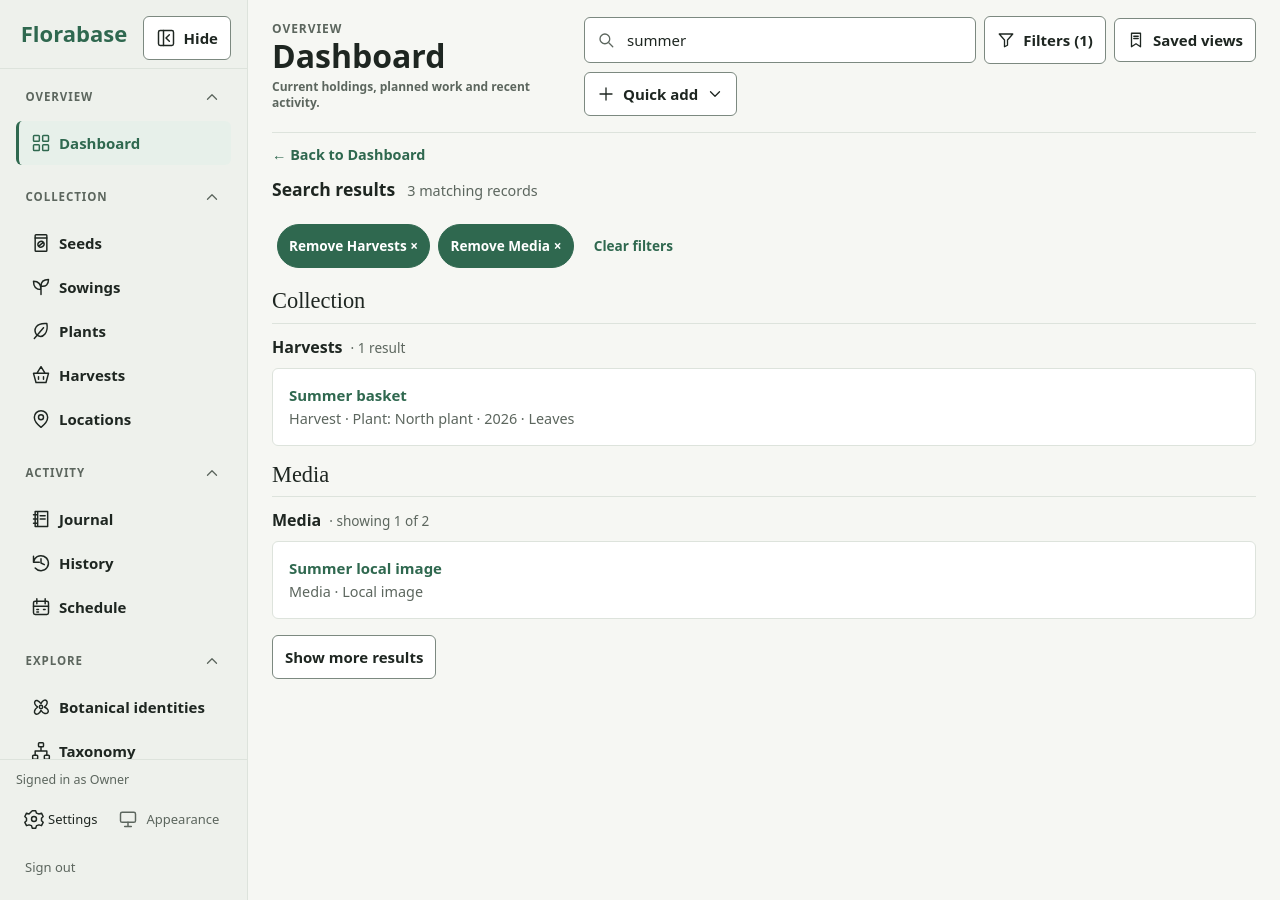
Test case: Harvest and Media URL kinds render compact groups and page together without images
Expected: the headings read "Collection", "Media", in this order, [272, 288, 1256, 324]; [272, 462, 1256, 497]
Expected: the text "Harvest · Plant: North plant · 2026 · Leaves" is shown, [289, 409, 574, 428]
Click the button "Show more results" at (354, 657), box [272, 635, 436, 679]
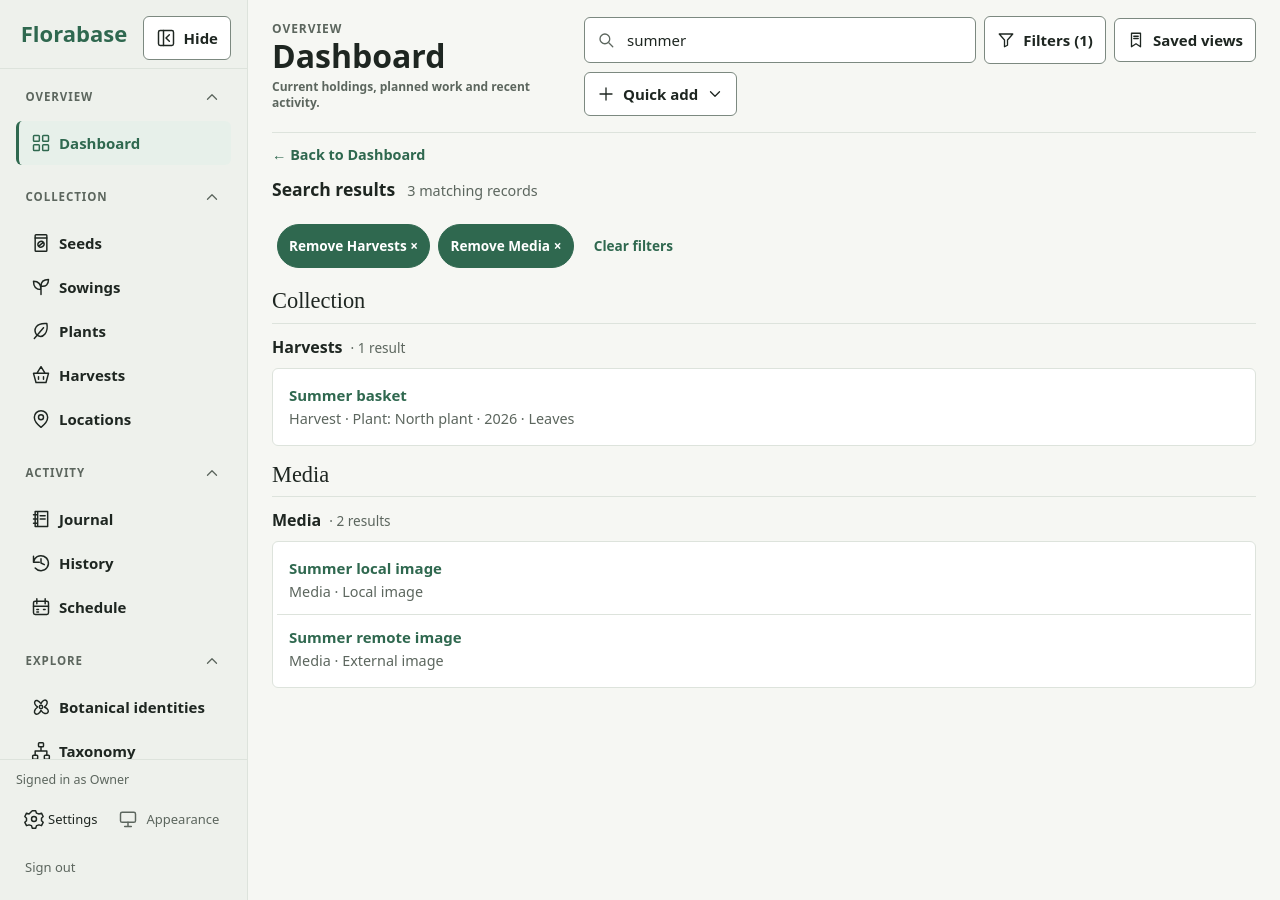
Now the link "Summer remote image Media · External image" is shown, box [289, 627, 462, 670]
